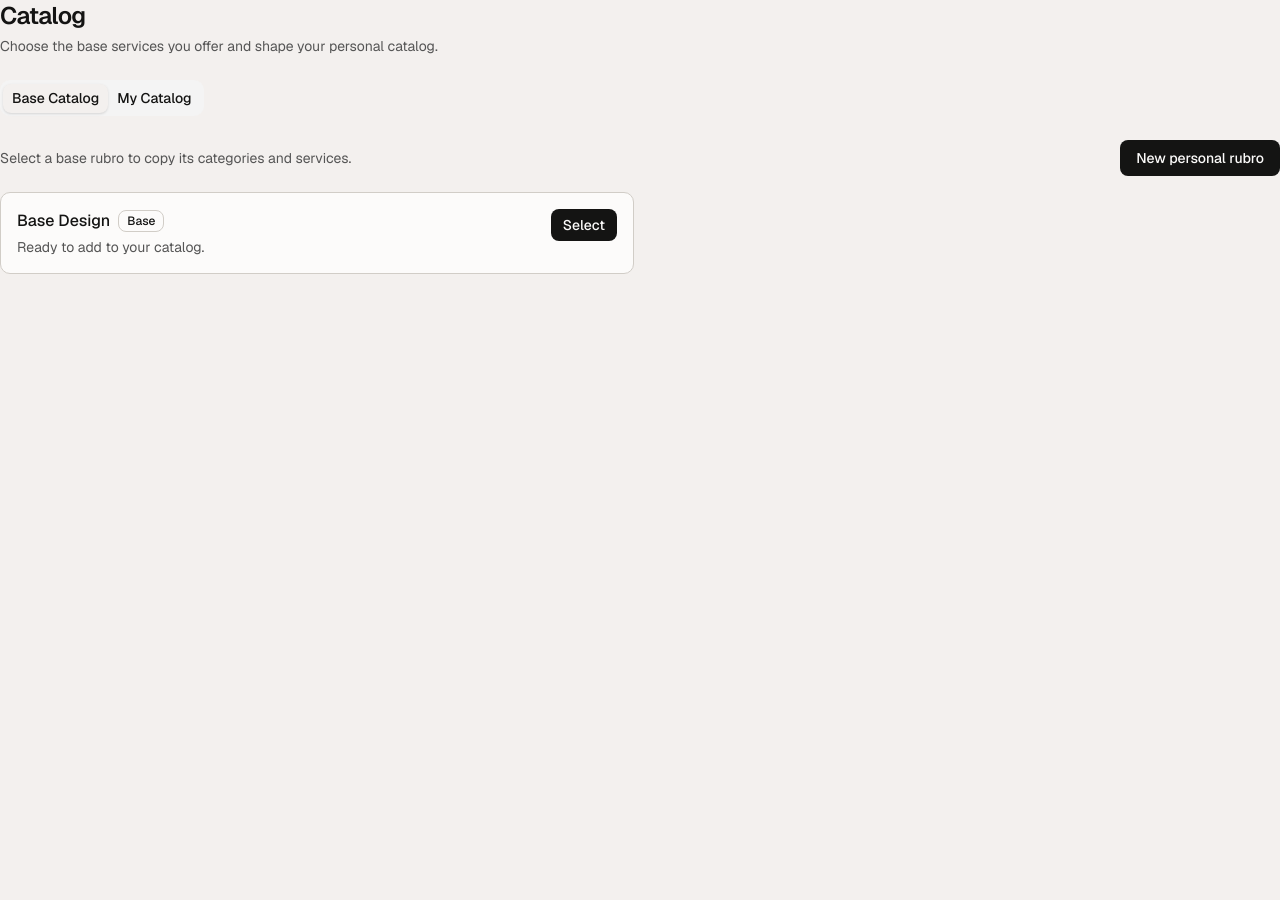
Scenario: CatalogoPage — orphan attach flow › surfaces the server 422 message when an attach fails
What coordinates should you click on to do the following:
click the tab "My Catalog"
I would click on:
 (154, 98)
Its box is [108,84,200,112].
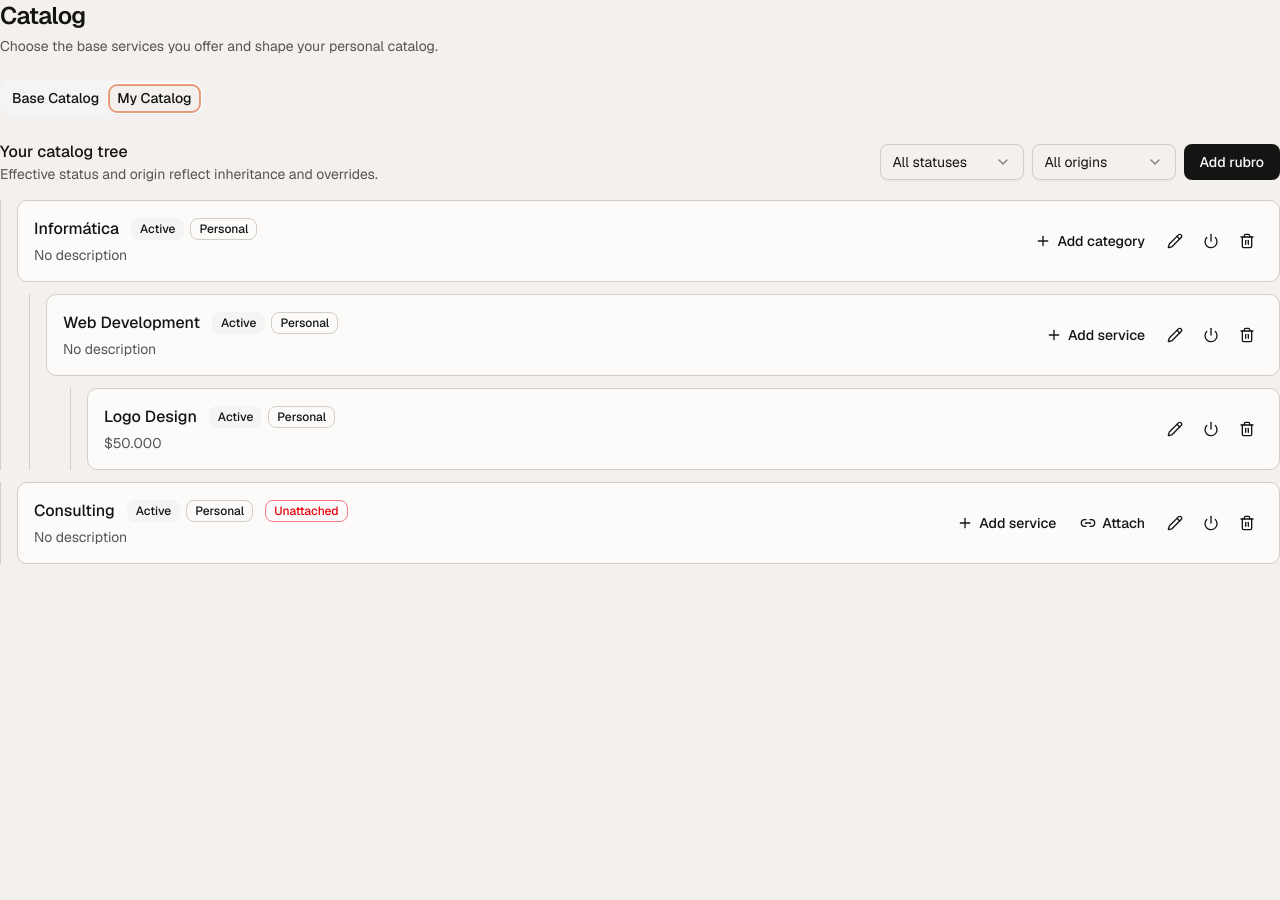
Result: the heading "Informática" is shown at [34,217,119,241]
What coordinates should you click on to do the following:
click the button with aria-label "Attach Consulting"
I would click on:
 (1113, 523)
Its box is [1070,507,1155,539].
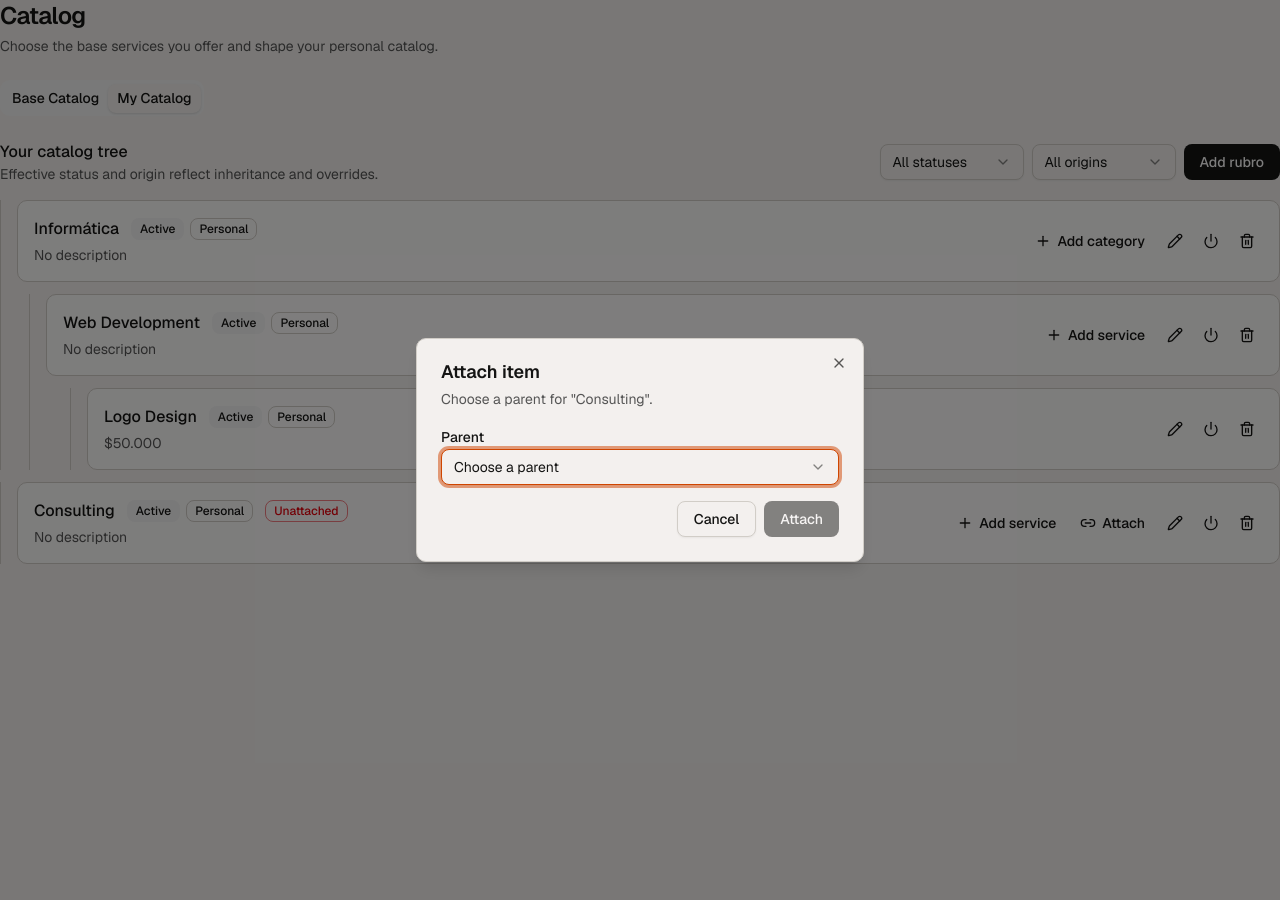
What coordinates should you click on to do the following:
click the dropdown labelled "parent"
I would click on:
 (506, 467)
Its box is [441,449,839,485].
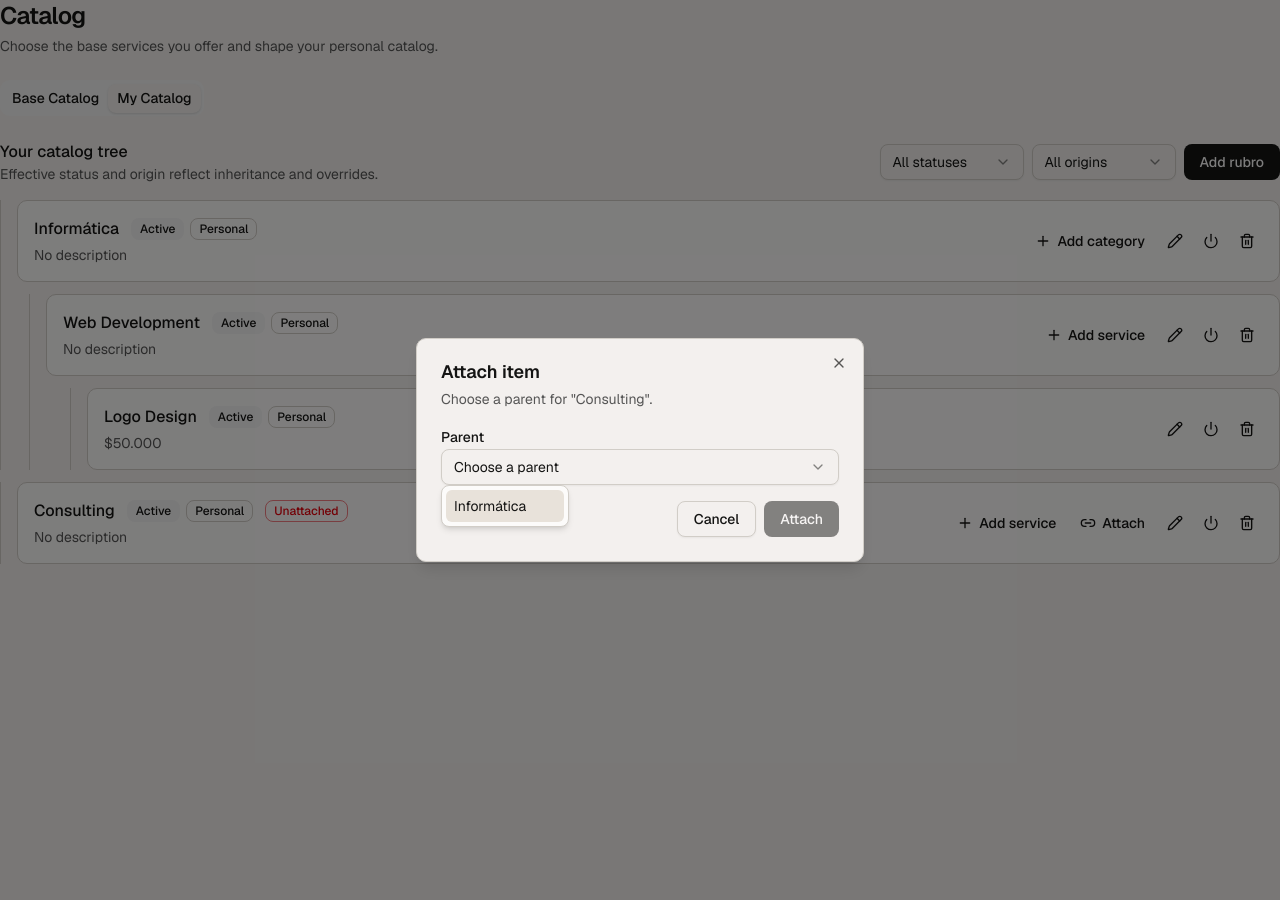
What coordinates should you click on to do the following:
click the option "Informática"
I would click on:
 (505, 506)
Its box is [446,490,564,522].
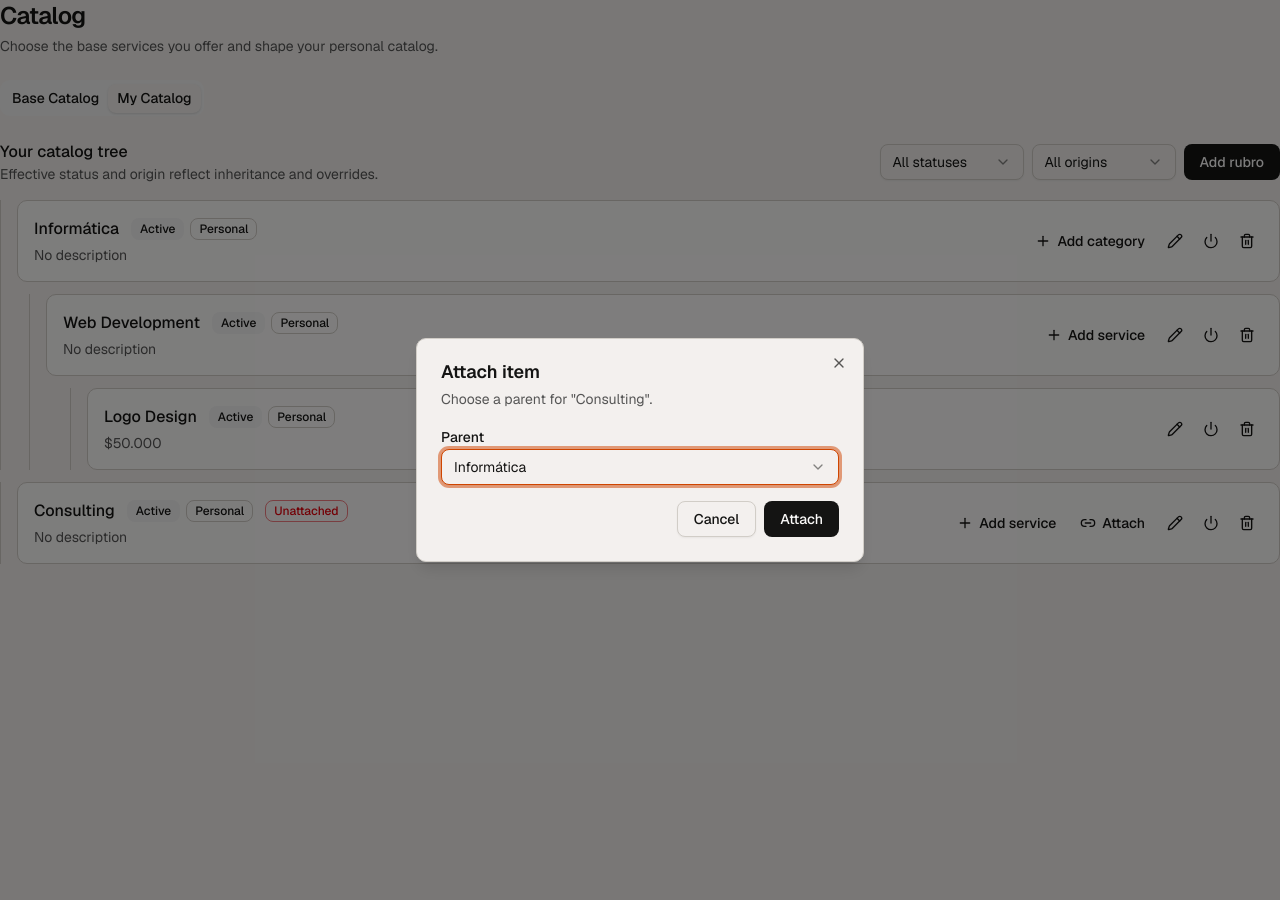
What coordinates should you click on to do the following:
click the button "Attach"
I would click on:
 (802, 519)
Its box is [764,501,839,537].
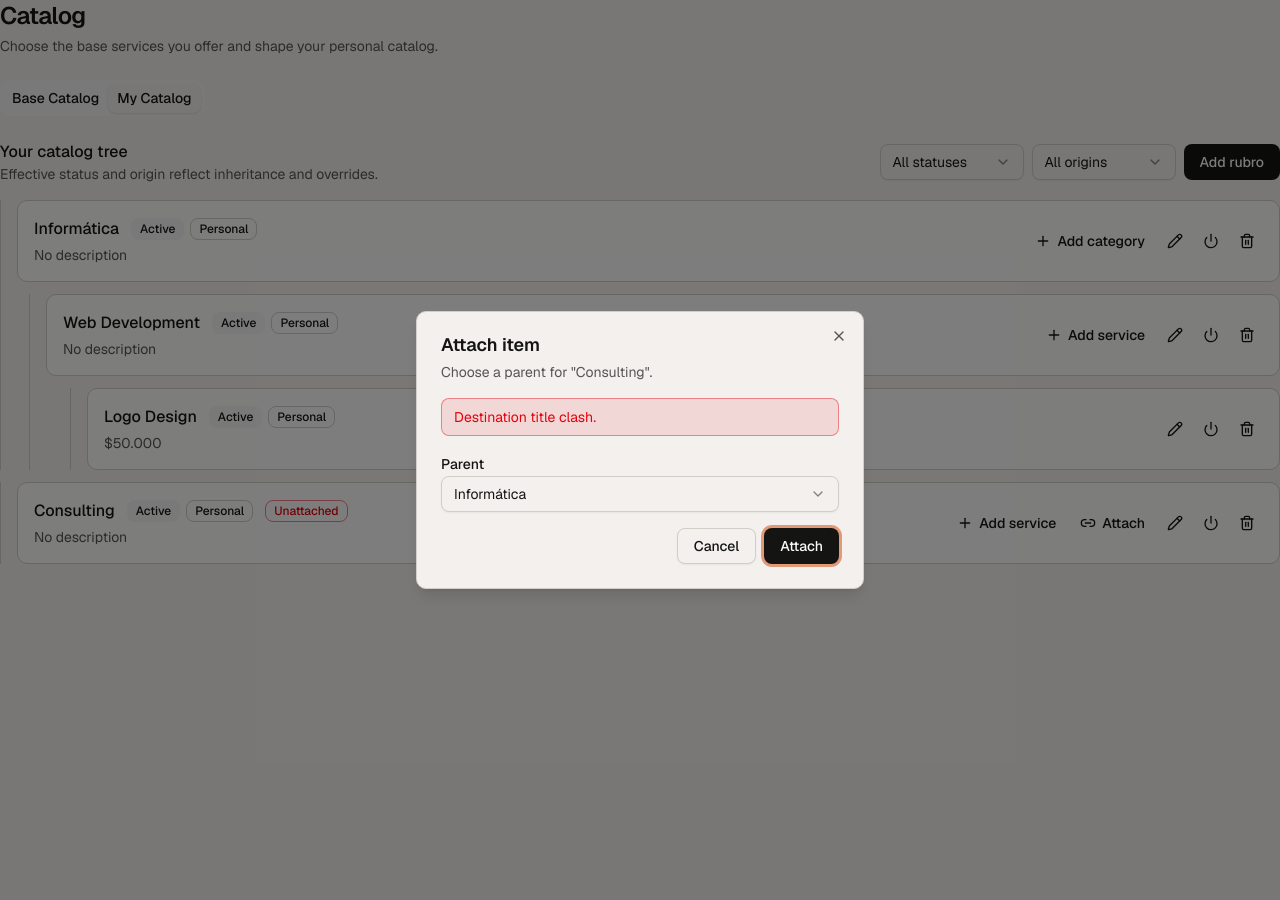
Result: the text "Destination title clash." is shown at [441,398,839,436]
